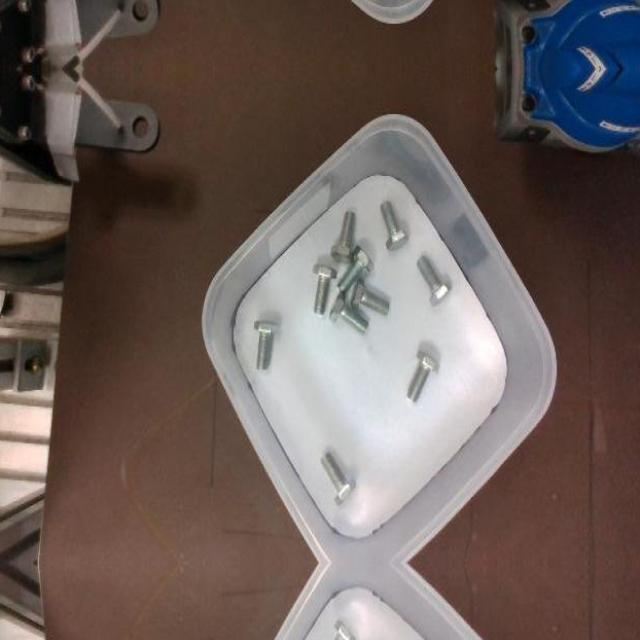screw: (320, 452, 356, 505), (336, 245, 374, 294), (406, 350, 441, 403), (417, 254, 452, 306), (328, 290, 368, 334), (380, 200, 410, 250), (350, 278, 389, 316), (330, 210, 355, 262), (253, 320, 278, 369), (313, 264, 336, 314), (319, 620, 355, 640)
